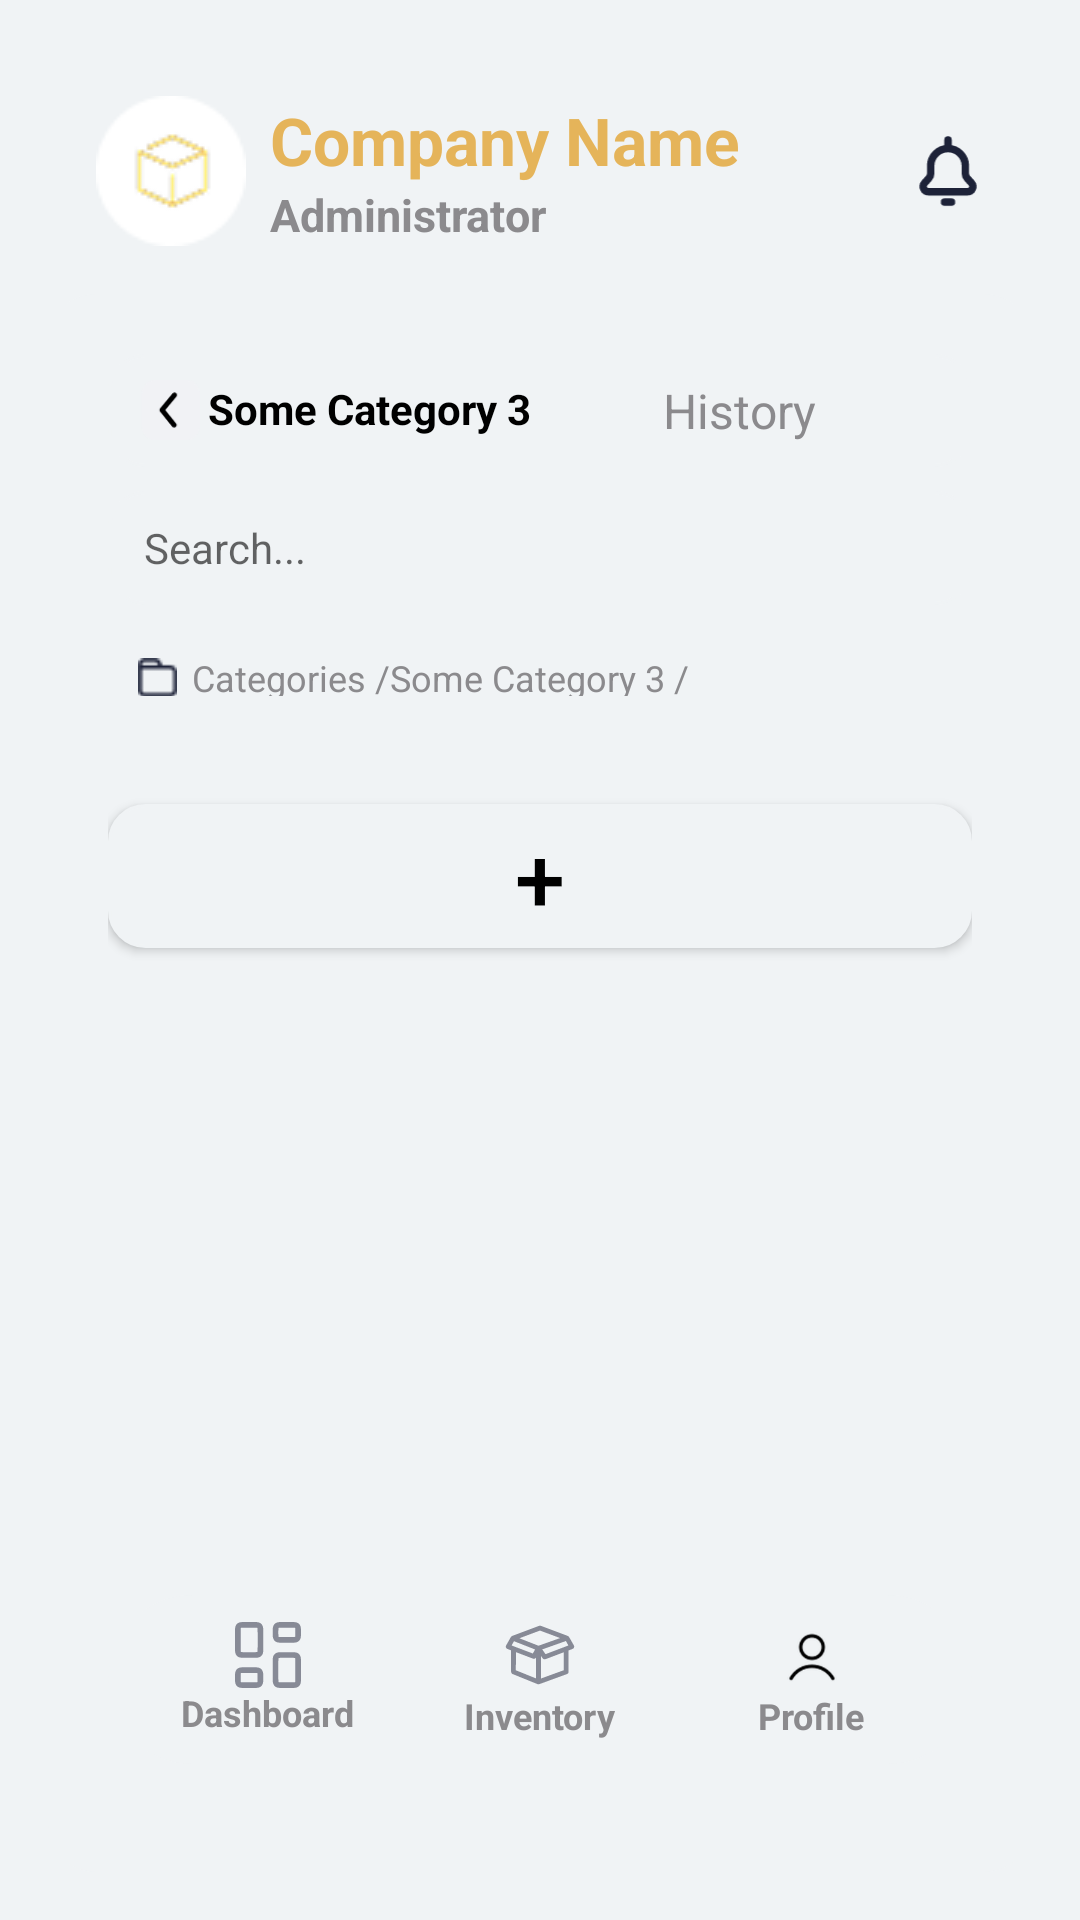

Icons on this 1080px×1920px Android screen, each with its box as (x1, y1, x2, y2):
bell: (919, 136, 977, 206)
box empty: (506, 1625, 574, 1685)
go back: (159, 392, 178, 428)
person: (789, 1633, 835, 1681)
